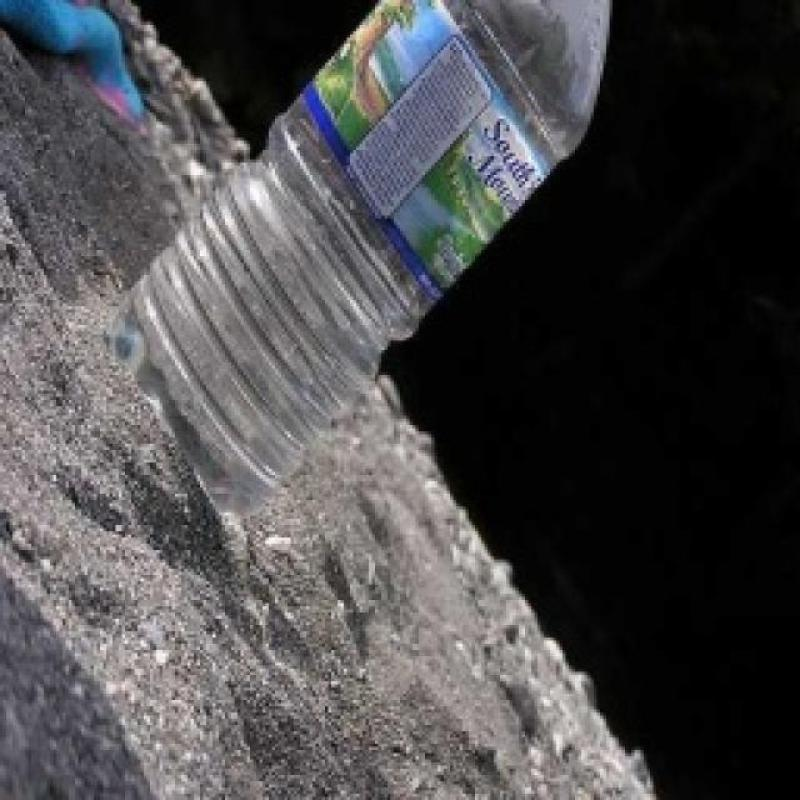botella: (103, 0, 616, 519)
